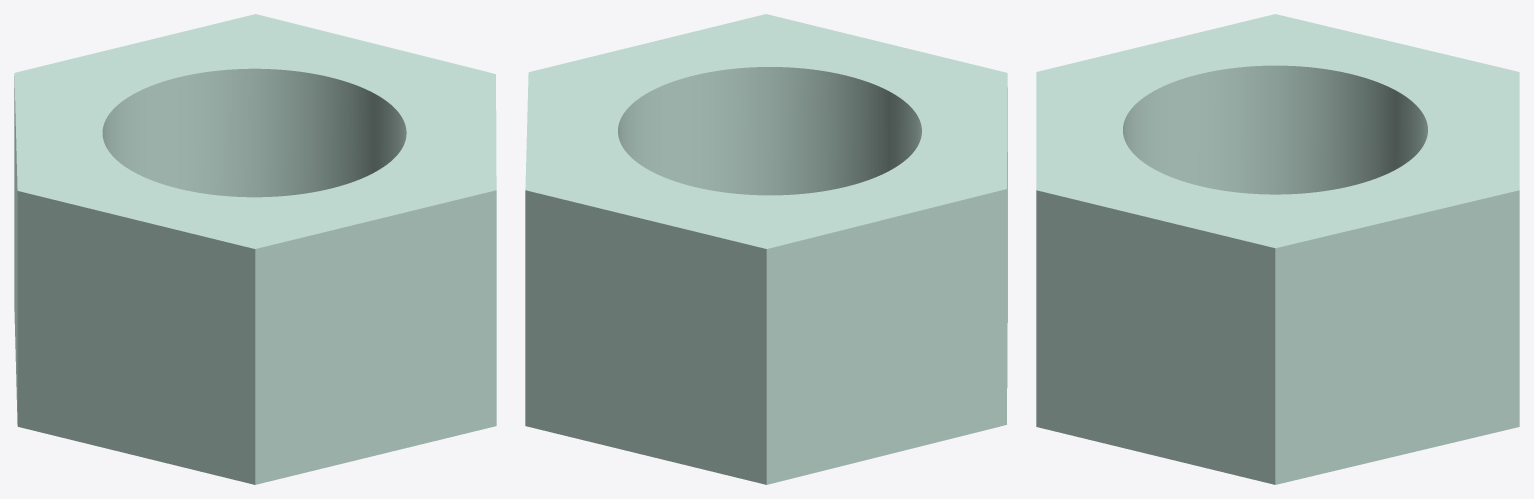
3 renders of one model, left to right at view 1: azimuth 30°, elevation 25°; view 2: azimuth 150°, elevation 25°; view 3: azimuth 270°, elevation 25°, orthographic.
Visible parts, largest first — view 1: Renderer Node; view 2: Renderer Node; view 3: Renderer Node.
Part boxes in pixels (bbox=[...]): Renderer Node: bbox=[14, 14, 496, 484]; Renderer Node: bbox=[525, 14, 1007, 484]; Renderer Node: bbox=[1036, 14, 1519, 484].
Size of the model in its own units: 0.995 by 0.4688 by 0.8672.
